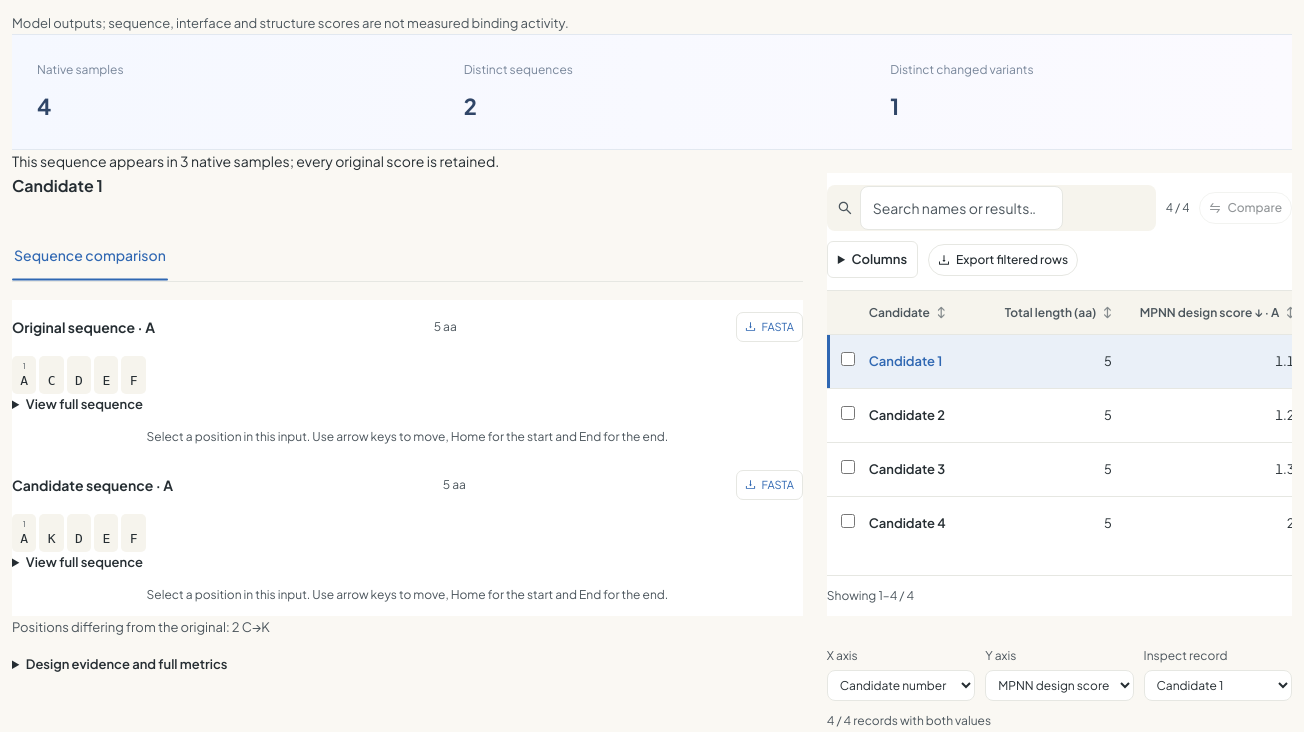
Test: distinguishes repeated native samples from changed variants and displays design scores in en
Check: the text "4" is shown, box [37, 92, 51, 120]
Check: the text "2" below "Distinct sequences" is shown, box [464, 92, 476, 120]
Click the button "Candidate 4" at (907, 523), box [869, 509, 946, 537]
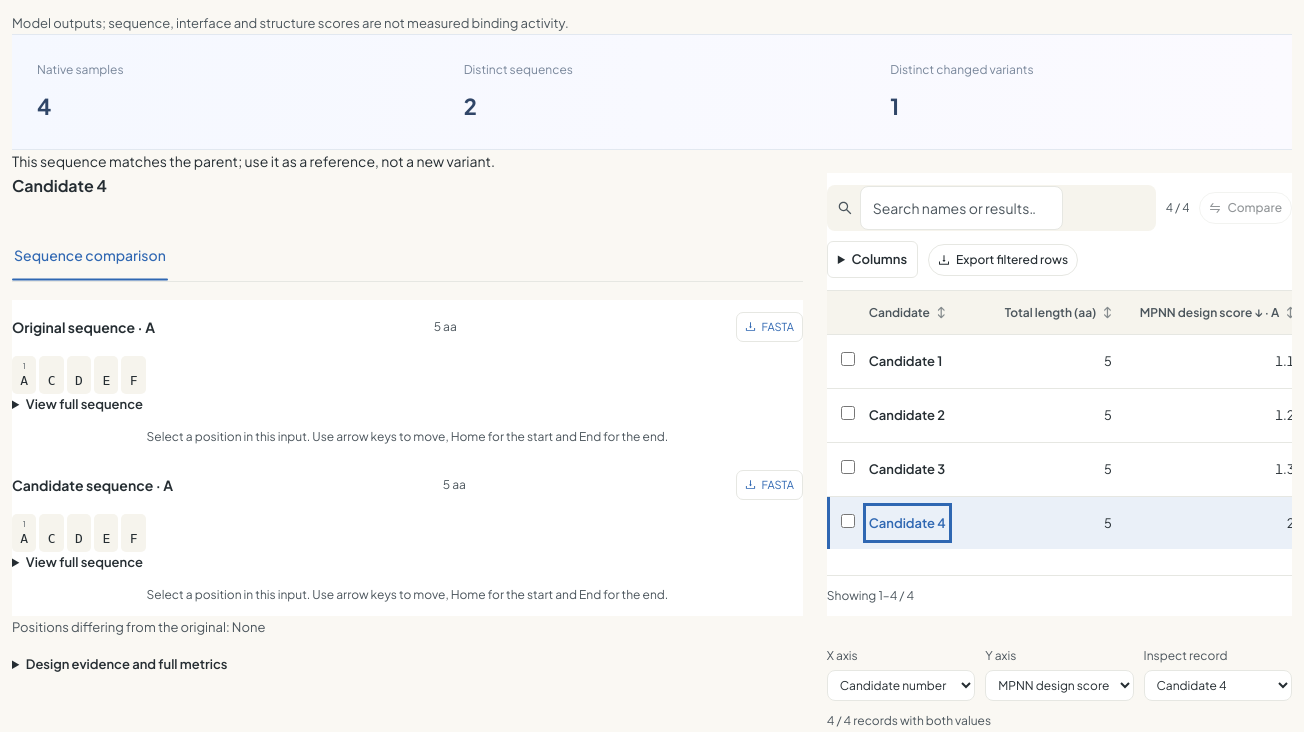
Check: the message shows "matches the parent", box [12, 152, 495, 170]
